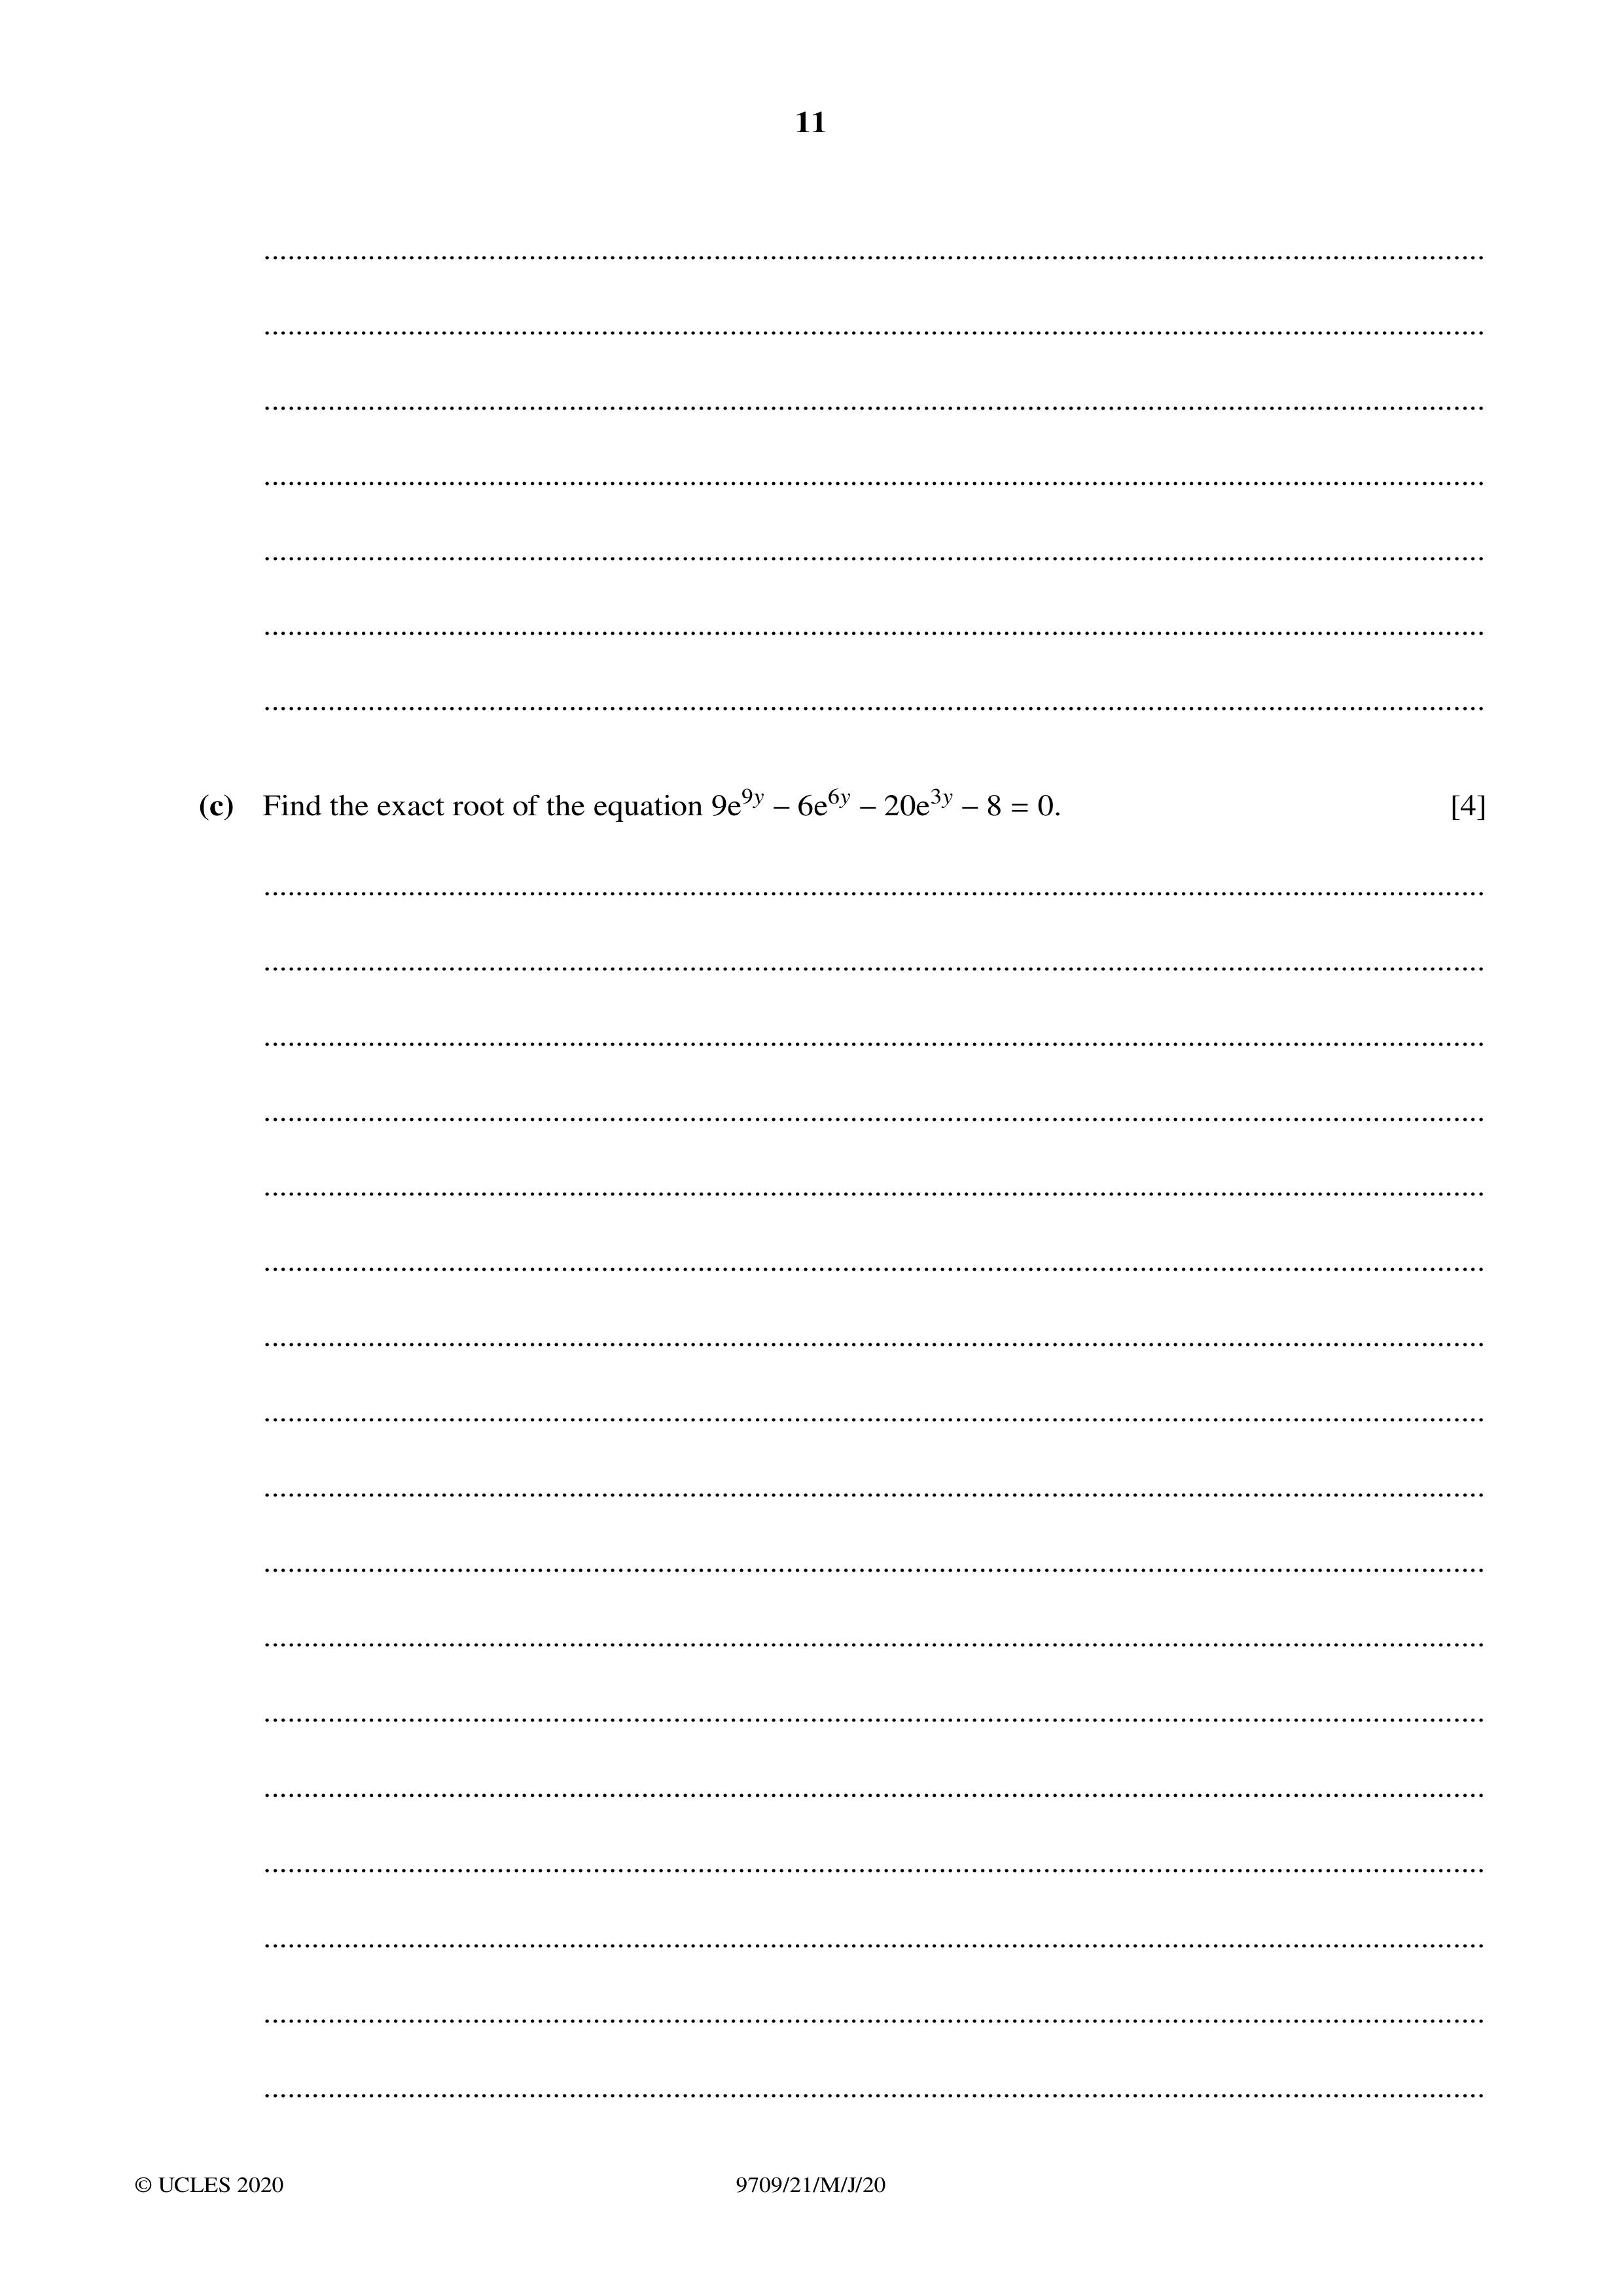question: (163, 739, 1511, 867)
